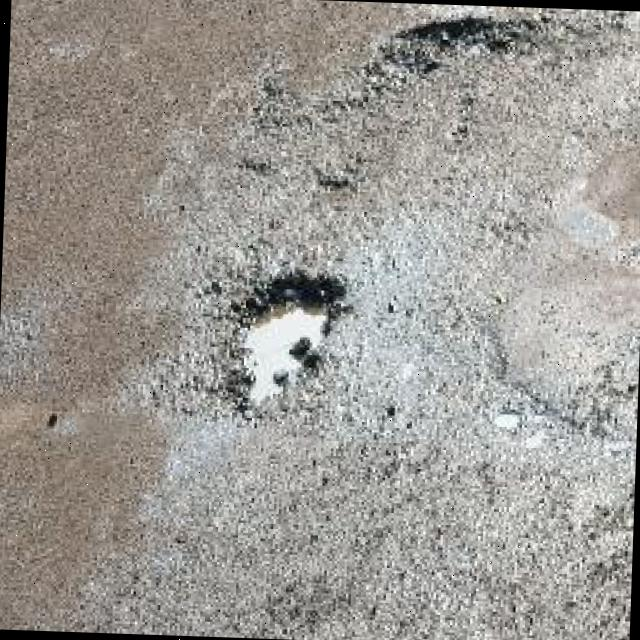stagnation: (208, 249, 338, 400)
